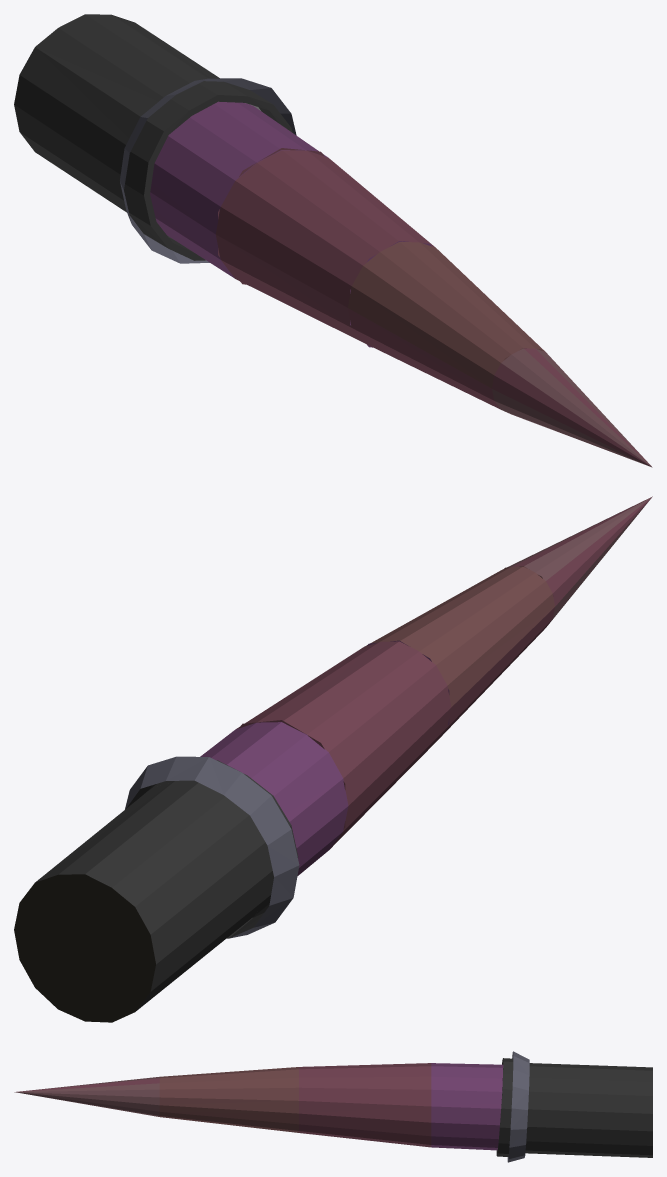
File: Bunner_J35FNG.obj
3 views of the same model, one above another, from view 1: azimuth 30°, elevation 25°; view 2: azimuth 150°, elevation 25°; view 3: azimuth 270°, elevation 25° (orthographic). The views are drawn at different scales.
Visible parts, largest first — view 1: ShapeIndexedFaceSet.146_ShapeIndexedFaceSet.147, ShapeIndexedFaceSet.004_ShapeIndexedFaceSet.005, ShapeIndexedFaceSet.147_ShapeIndexedFaceSet.148, ShapeIndexedFaceSet.145_ShapeIndexedFaceSet.146, ShapeIndexedFaceSet.148_ShapeIndexedFaceSet, ShapeIndexedFaceSet.003_ShapeIndexedFaceSet.004; view 2: ShapeIndexedFaceSet.004_ShapeIndexedFaceSet.005, ShapeIndexedFaceSet.146_ShapeIndexedFaceSet.147, ShapeIndexedFaceSet.005_ShapeIndexedFaceSet.006, ShapeIndexedFaceSet.147_ShapeIndexedFaceSet.148, ShapeIndexedFaceSet.145_ShapeIndexedFaceSet.146, ShapeIndexedFaceSet.003_ShapeIndexedFaceSet.004, ShapeIndexedFaceSet.148_ShapeIndexedFaceSet; view 3: ShapeIndexedFaceSet.004_ShapeIndexedFaceSet.005, ShapeIndexedFaceSet.146_ShapeIndexedFaceSet.147, ShapeIndexedFaceSet.147_ShapeIndexedFaceSet.148, ShapeIndexedFaceSet.145_ShapeIndexedFaceSet.146, ShapeIndexedFaceSet.148_ShapeIndexedFaceSet, ShapeIndexedFaceSet.003_ShapeIndexedFaceSet.004.
Boxes of the visible parts, x1,y1,x2,y2 form: ShapeIndexedFaceSet.146_ShapeIndexedFaceSet.147: (215, 148, 651, 466); ShapeIndexedFaceSet.004_ShapeIndexedFaceSet.005: (14, 14, 292, 260); ShapeIndexedFaceSet.147_ShapeIndexedFaceSet.148: (348, 242, 545, 388); ShapeIndexedFaceSet.145_ShapeIndexedFaceSet.146: (150, 101, 431, 347); ShapeIndexedFaceSet.148_ShapeIndexedFaceSet: (492, 348, 651, 466); ShapeIndexedFaceSet.003_ShapeIndexedFaceSet.004: (120, 78, 296, 263); ShapeIndexedFaceSet.004_ShapeIndexedFaceSet.005: (35, 760, 298, 1011); ShapeIndexedFaceSet.146_ShapeIndexedFaceSet.147: (236, 496, 652, 849); ShapeIndexedFaceSet.005_ShapeIndexedFaceSet.006: (14, 874, 155, 1022); ShapeIndexedFaceSet.147_ShapeIndexedFaceSet.148: (364, 566, 554, 706); ShapeIndexedFaceSet.145_ShapeIndexedFaceSet.146: (200, 640, 449, 875); ShapeIndexedFaceSet.003_ShapeIndexedFaceSet.004: (125, 756, 299, 938); ShapeIndexedFaceSet.148_ShapeIndexedFaceSet: (502, 497, 651, 623); ShapeIndexedFaceSet.004_ShapeIndexedFaceSet.005: (496, 1058, 652, 1157); ShapeIndexedFaceSet.146_ShapeIndexedFaceSet.147: (17, 1063, 431, 1147); ShapeIndexedFaceSet.147_ShapeIndexedFaceSet.148: (159, 1067, 298, 1132); ShapeIndexedFaceSet.145_ShapeIndexedFaceSet.146: (431, 1063, 503, 1150); ShapeIndexedFaceSet.148_ShapeIndexedFaceSet: (14, 1077, 159, 1116); ShapeIndexedFaceSet.003_ShapeIndexedFaceSet.004: (507, 1051, 529, 1162).
Size of the model in its own units: 8.94 by 8.78 by 50.1.
